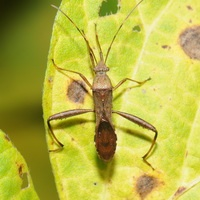insect: (47, 0, 157, 169)
